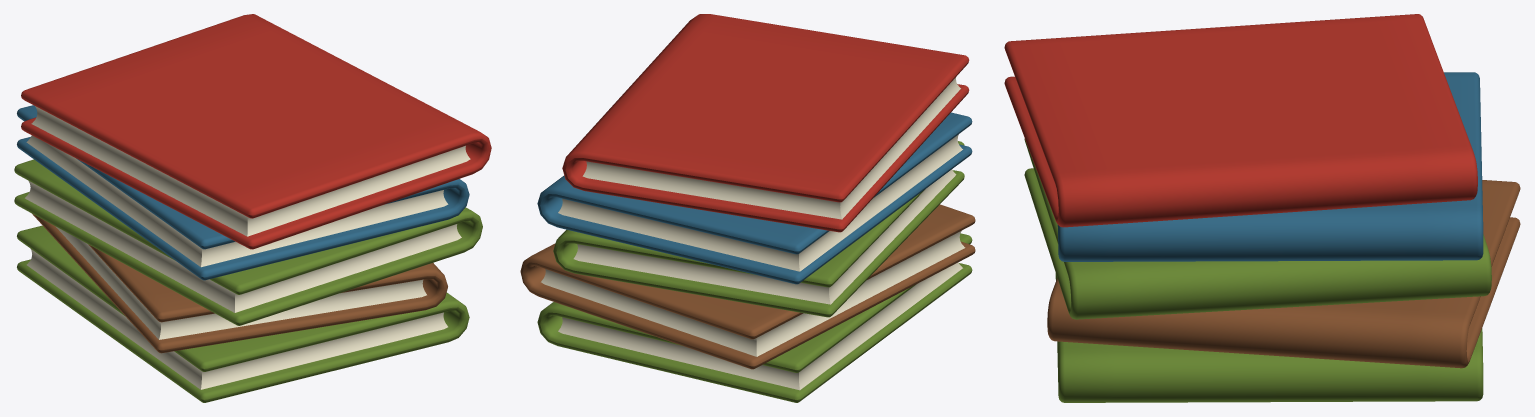
Rendered from BookStack.fbx.
3 views of the same model, side by side, from view 1: azimuth 30°, elevation 25°; view 2: azimuth 150°, elevation 25°; view 3: azimuth 270°, elevation 25° (orthographic). The views are drawn at different scales.
Visible parts, largest first — view 1: Outside (×5), Inside (×5); view 2: Outside (×5), Inside (×5); view 3: Outside (×5).
Part boxes in pixels (x1,y1,x2,y2): Outside (×5): [14, 14, 491, 402]; Inside (×5): [25, 106, 470, 389]; Outside (×5): [520, 14, 975, 402]; Inside (×5): [541, 77, 965, 390]; Outside (×5): [1004, 14, 1520, 402].
Size of the model in its own units: 1.47 by 0.908 by 1.81.
